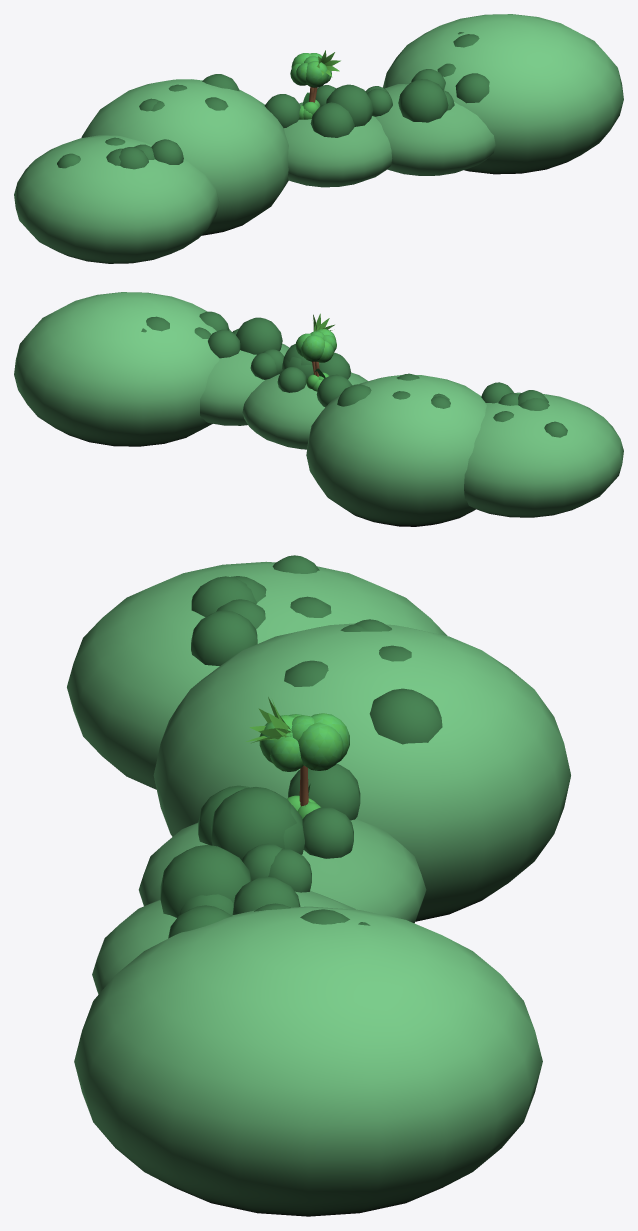
The model's file is scenery.glb.
The picture shows the model from 3 angles, top to bottom: view 1: azimuth 30°, elevation 25°; view 2: azimuth 150°, elevation 25°; view 3: azimuth 270°, elevation 25°; orthographic projection. The views are drawn at different scales.
Visible parts, largest first — view 1: hill4, hill0, hill1, hill3, hill2, hillTree3_4, hillTree2_0, hillTree2_1, hillTree2_5, hillTree3_5, hillTree0_0, hillTree0_5 (+4 smaller); view 2: hill4, hill1, hill0, hill2, hill3, hillTree3_4, hillTree3_3, hillTree2_5, hillTree2_3, hillTree3_0, hillTree2_0, canopy5 (+3 smaller); view 3: hill4, hill1, hill0, hill2, hillTree2_1, hillTree3_4, hill3, hillTree1_4, hillTree0_0, hillTree2_5, hillTree2_3, canopy6 (+8 smaller).
Part boxes in pixels (box(x1,y1,x2,y2)): hill4: box(383, 14, 623, 174); hill0: box(14, 135, 219, 263); hill1: box(81, 79, 288, 235); hill3: box(375, 84, 495, 175); hill2: box(284, 102, 392, 187); hillTree3_4: box(398, 79, 448, 122); hillTree2_0: box(310, 102, 354, 137); hillTree2_1: box(326, 84, 373, 126); hillTree2_5: box(264, 94, 300, 127); hillTree3_5: box(455, 73, 489, 103); hillTree0_0: box(151, 139, 183, 164); hillTree0_5: box(119, 147, 148, 169); hill4: box(14, 292, 231, 446); hill1: box(306, 375, 486, 526); hill0: box(464, 392, 623, 517); hill2: box(242, 372, 367, 449); hill3: box(200, 343, 289, 425); hillTree3_4: box(236, 317, 282, 354); hillTree3_3: box(208, 329, 240, 358); hillTree2_5: box(316, 374, 352, 407); hillTree2_3: box(277, 367, 306, 392); hillTree3_0: box(250, 352, 276, 379); hillTree2_0: box(319, 352, 350, 379); canopy5: box(301, 335, 324, 361); hill4: box(74, 906, 542, 1216); hill1: box(153, 623, 570, 921); hill0: box(67, 561, 447, 789); hill2: box(138, 819, 426, 923); hillTree2_1: box(211, 787, 296, 859); hillTree3_4: box(160, 845, 251, 917); hill3: box(92, 891, 355, 994); hillTree1_4: box(369, 688, 442, 744); hillTree0_0: box(191, 610, 257, 665); hillTree2_5: box(288, 763, 360, 820); hillTree2_3: box(302, 807, 353, 858); canopy6: box(298, 722, 343, 770).
Size of the model in its own units: 37.75 by 9.87 by 14.43.
